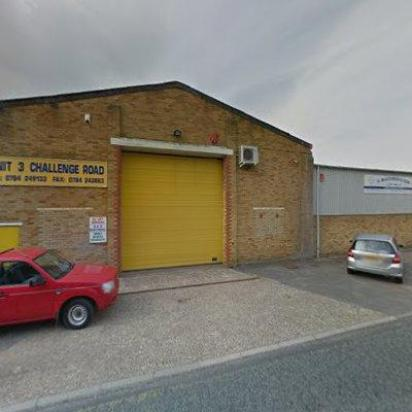stationary-car-offstreet: (0, 245, 121, 333), (344, 234, 406, 283)
